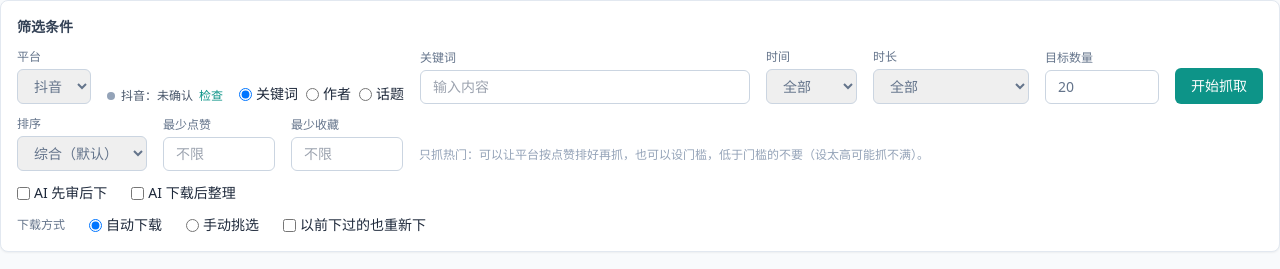
N02 最少点赞 / 最少收藏 › 门槛只能填 0 以上的整数
Type "猫咪" into the field with placeholder "输入内容" at (585, 87), box left=420, top=70, right=750, bottom=104
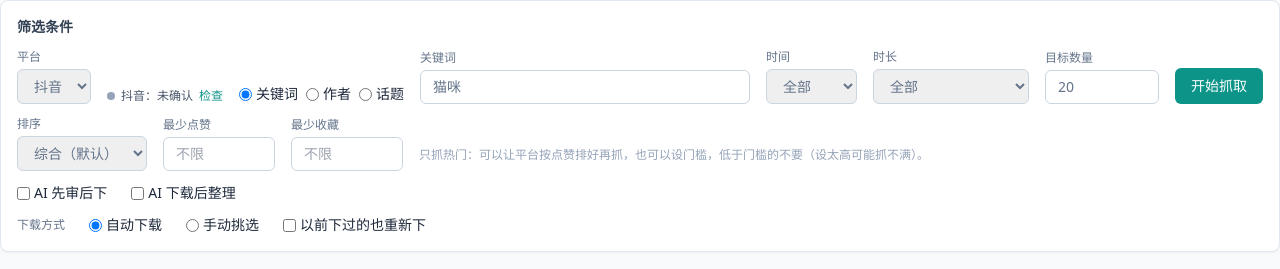
Type "-5" into the number field labelled "最少点赞" at (219, 154), box left=163, top=137, right=275, bottom=171
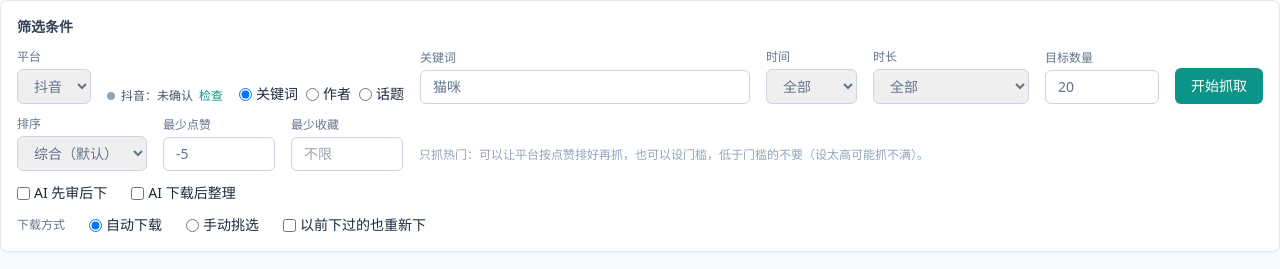
Click the button "开始抓取" at (1219, 86), box left=1175, top=68, right=1263, bottom=104
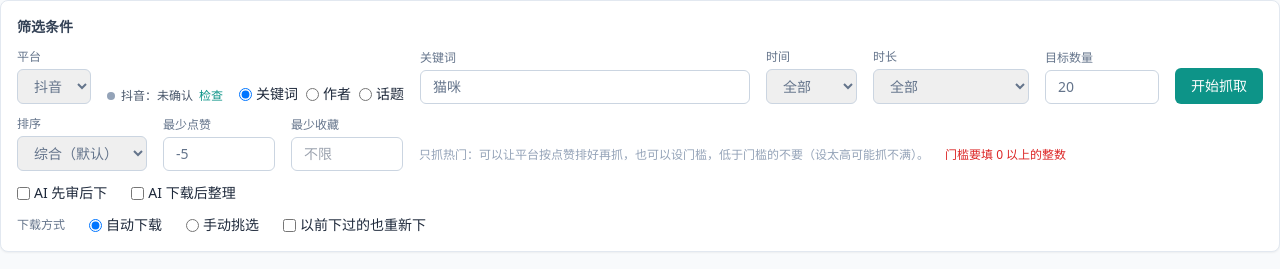
Expected: the text "门槛要填 0 以上的整数" is shown, left=945, top=147, right=1066, bottom=171
